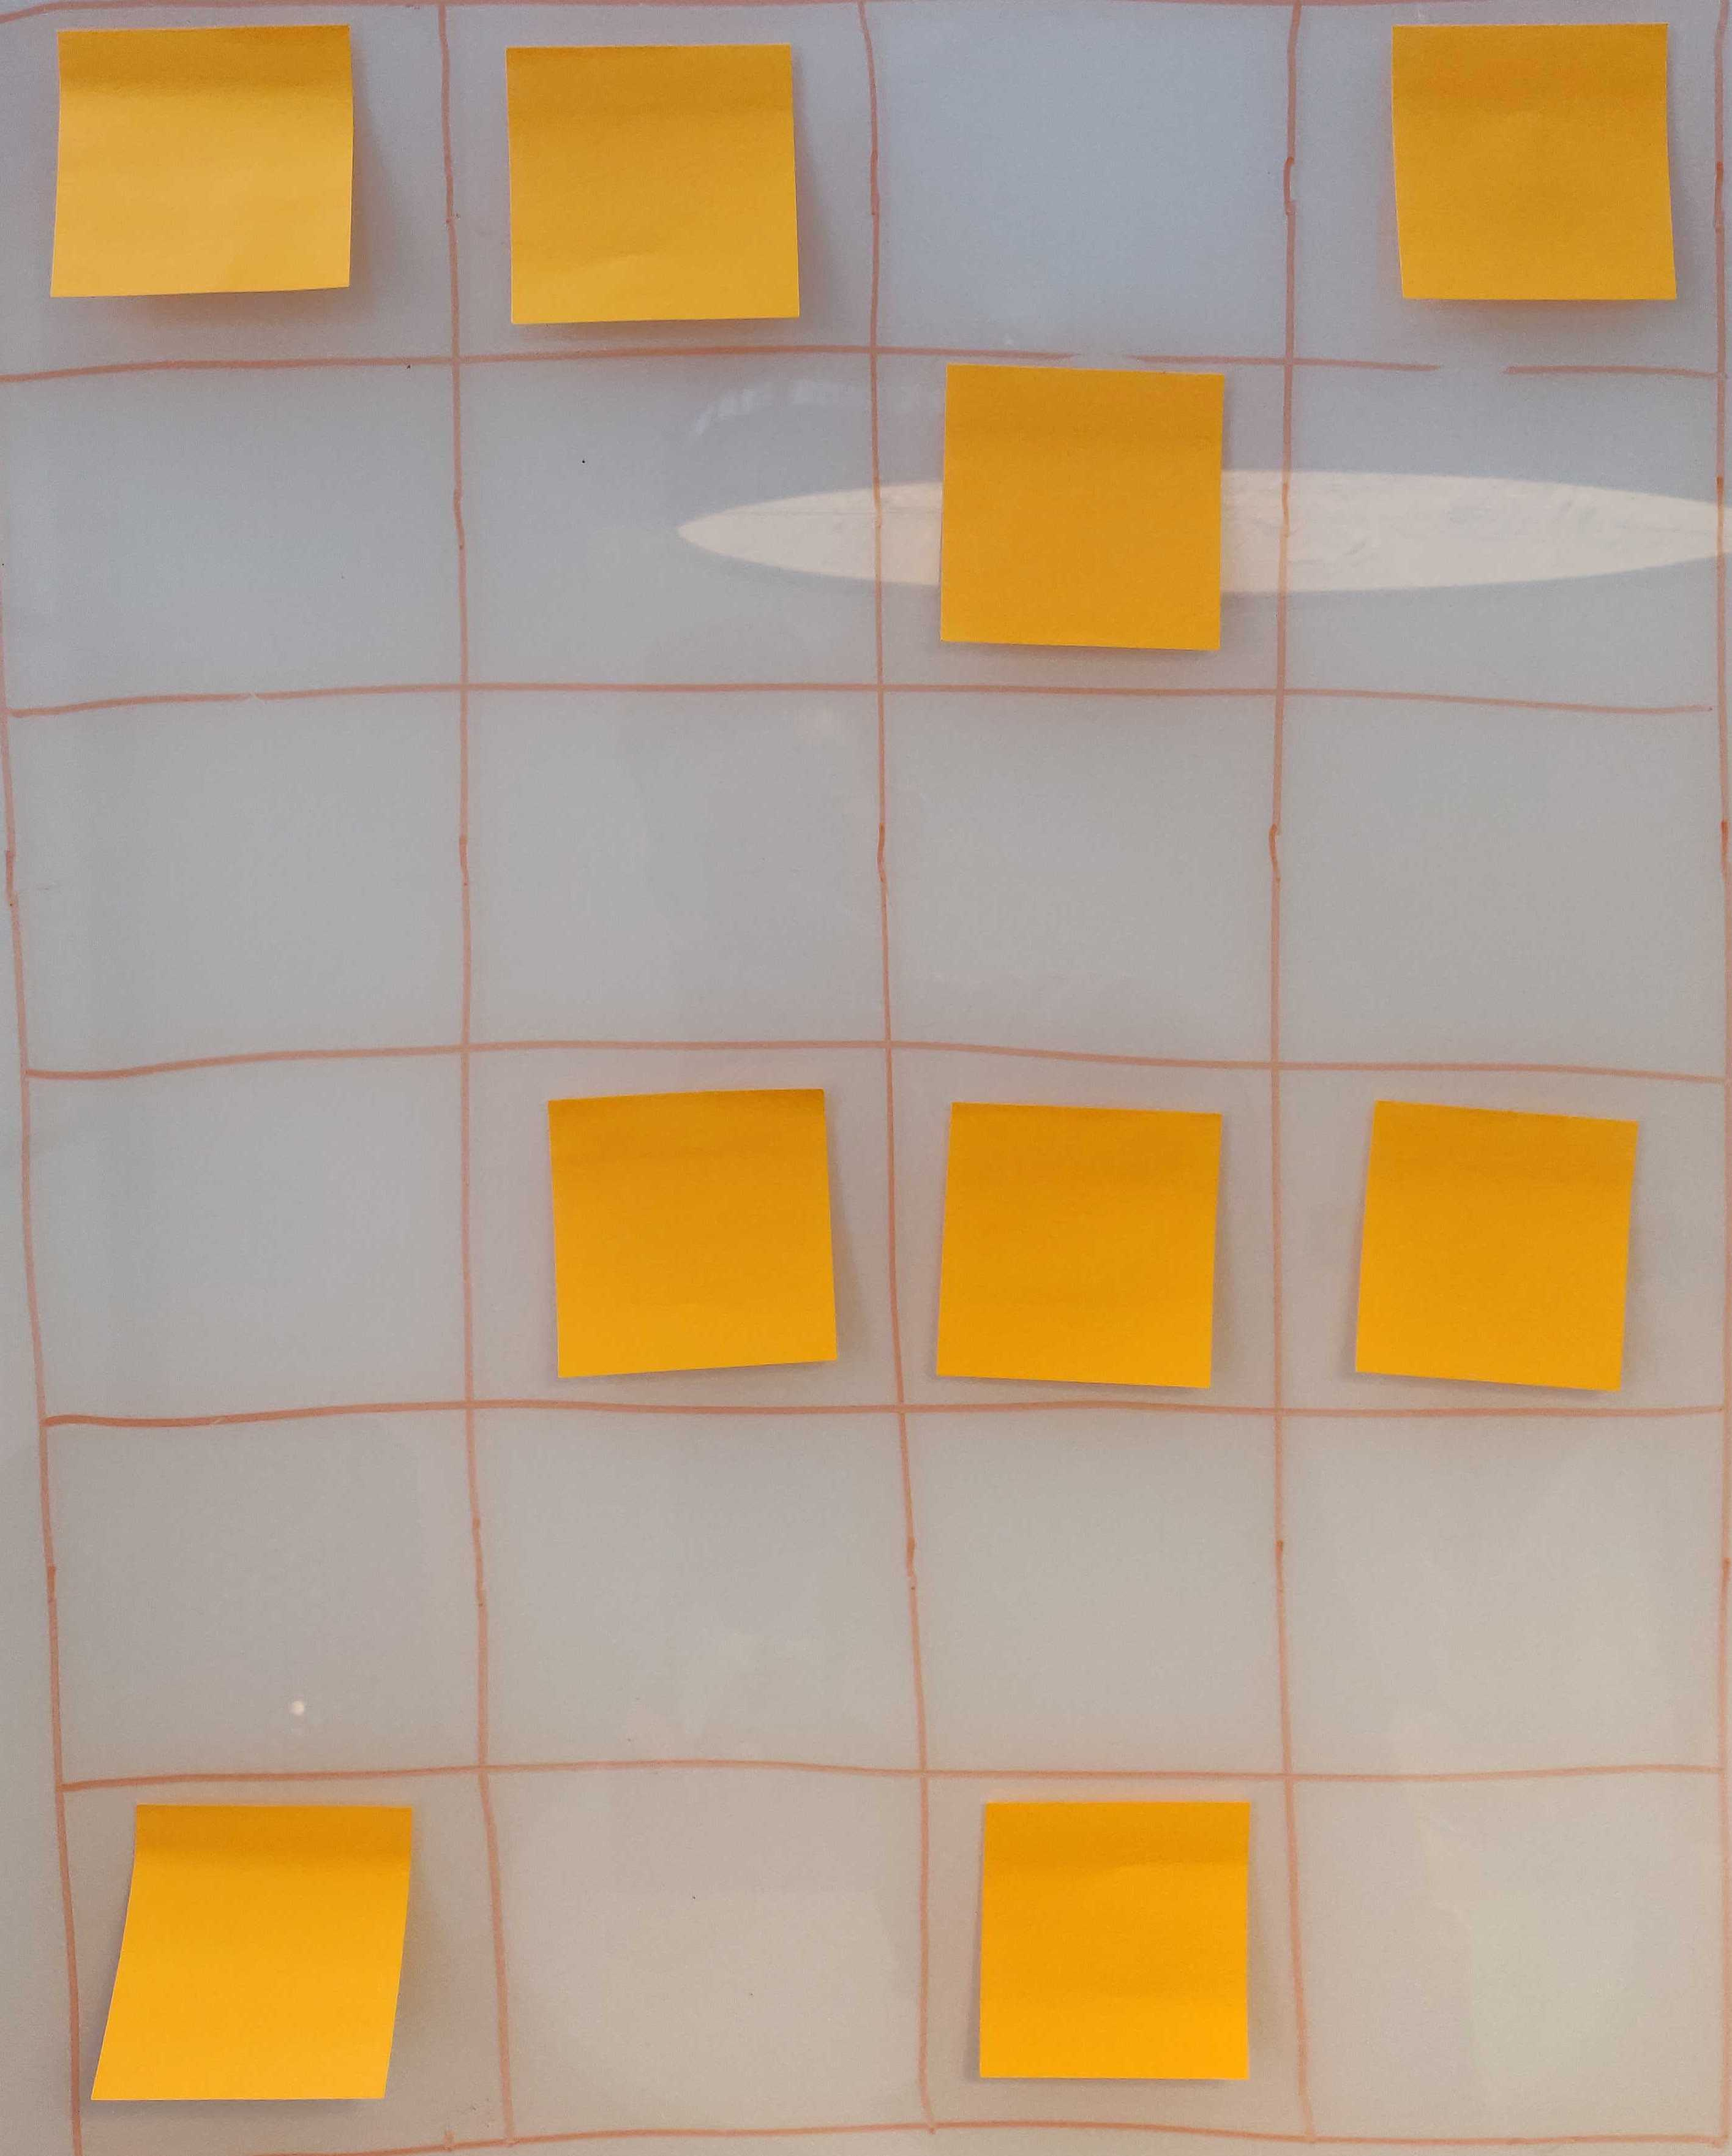stickynote: (77, 1794, 450, 2122), (1348, 1059, 1664, 1434), (519, 1066, 861, 1403), (1378, 3, 1700, 342), (498, 31, 835, 350), (929, 355, 1261, 673), (34, 28, 386, 321), (955, 1783, 1279, 2100), (914, 1087, 1238, 1398)
